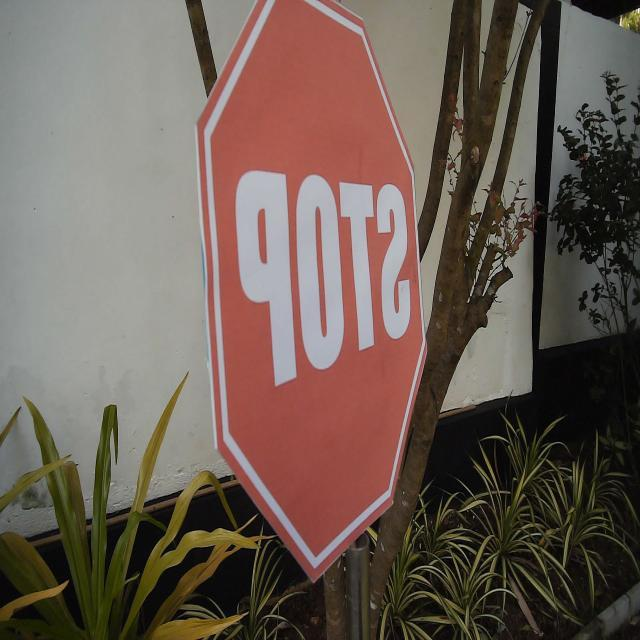stop: (192, 0, 429, 588)
